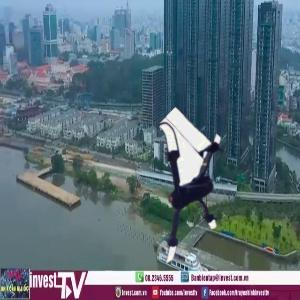drone: (118, 128, 252, 262)
